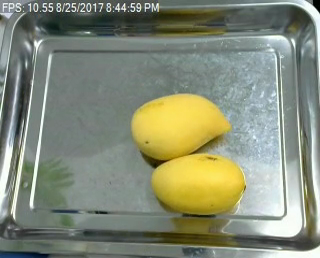Mango: (126, 89, 232, 163), (150, 150, 249, 214)
